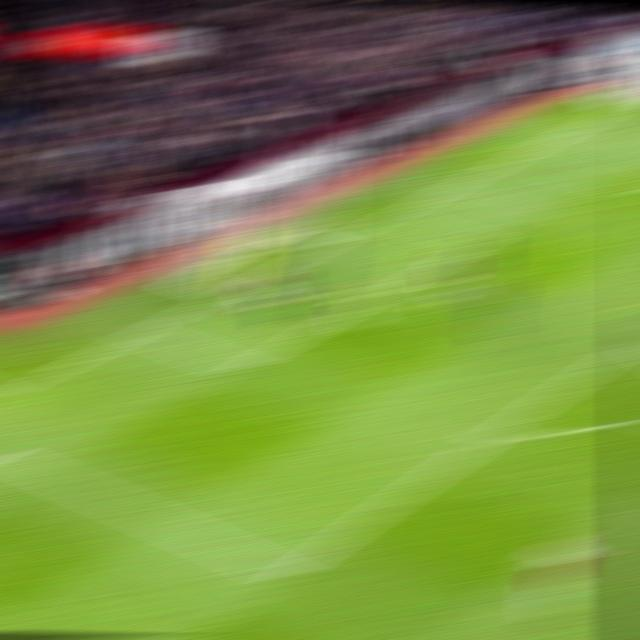bigarea_bottom_inner: (261, 557, 310, 590)
bigarea_top_outter: (489, 150, 529, 167)
bottom_arc_area_intersection: (472, 418, 519, 446)
corner: (616, 94, 640, 105)
smallarea_bottom_inner: (218, 351, 264, 380)
smallarea_bottom_outter: (120, 318, 164, 342)
smallarea_top_inner: (461, 231, 500, 250)
smallarea_top_outter: (369, 206, 410, 225)
